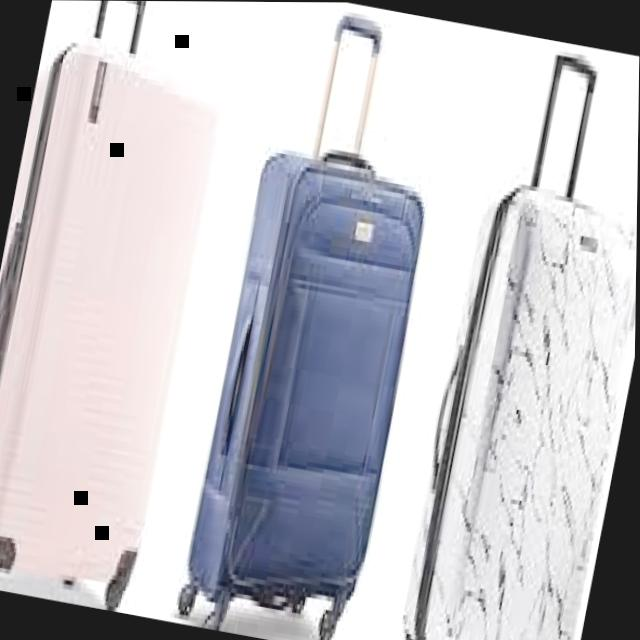luggage: (0, 24, 238, 601), (177, 126, 448, 623), (390, 170, 638, 640)
